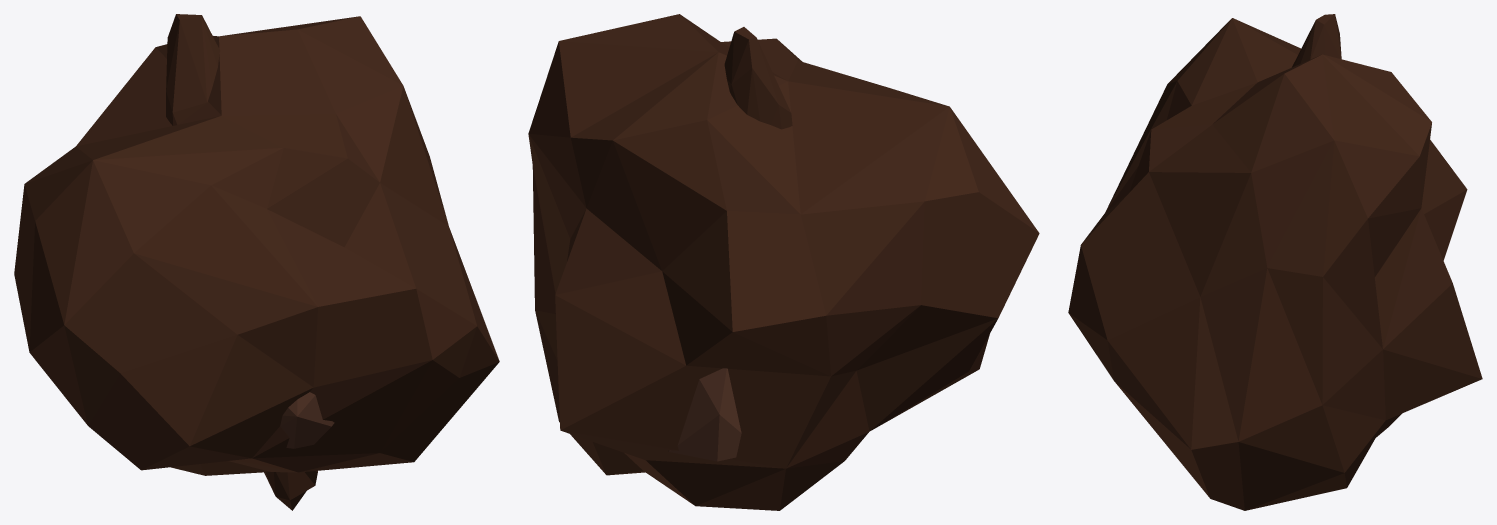
The model's file is Kamyki_Podłoga_Większe.fbx.
3 renders of one model, left to right at view 1: azimuth 30°, elevation 25°; view 2: azimuth 150°, elevation 25°; view 3: azimuth 270°, elevation 25°, orthographic. The views are drawn at different scales.
Visible parts, largest first — view 1: Cube.030, Cube.061, Cube.035; view 2: Cube.030, Cube.035, Cube.061; view 3: Cube.030, Cube.061.
Part boxes in pixels (x1,y1,x2,y2): Cube.030: (14,16,499,475); Cube.061: (166,14,317,510); Cube.035: (280,392,334,448); Cube.030: (528,14,1039,510); Cube.035: (668,368,741,461); Cube.061: (724,27,792,129); Cube.030: (1068,18,1482,510); Cube.061: (1292,14,1341,67).
Size of the model in its own units: 2998 by 3081 by 2615.
